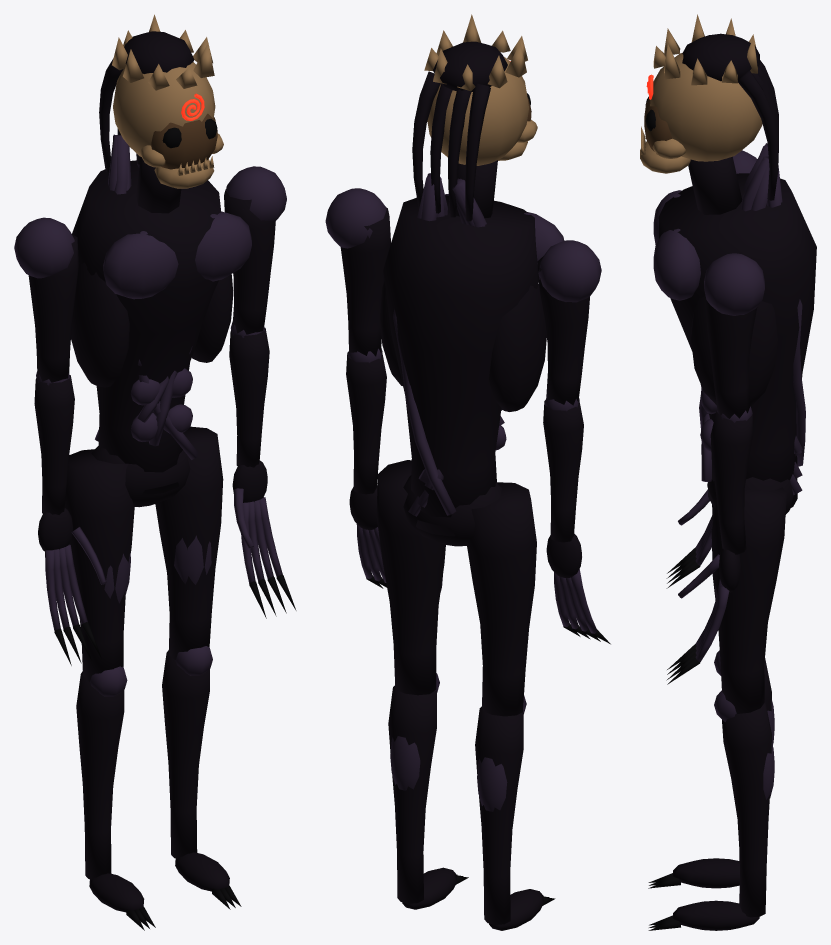
Rendered from carnical.glb.
The picture shows the model from 3 angles, left to right: view 1: azimuth 30°, elevation 25°; view 2: azimuth 150°, elevation 25°; view 3: azimuth 270°, elevation 25°; orthographic projection.
Parts seen in each view (by area): view 1: P_chest, P_neck, P_hipR, P_hipL, P_kneeR, P_kneeL, P_shR, P_shL, P_handR, P_handL, P_elL, P_elR (+1 smaller); view 2: P_chest, P_neck, P_hipR, P_hipL, P_kneeR, P_kneeL, P_shR, P_shL, P_elL, P_elR, P_handR, P_handL; view 3: P_chest, P_neck, P_hipL, P_kneeL, P_shL, P_elL, P_handL, P_kneeR, P_handR, P_jaw, P_shR.
Part boxes in pixels (box(x1,y1,x2,y2)): P_chest: box(71, 134, 251, 507); P_neck: box(99, 14, 223, 213); P_hipR: box(65, 449, 134, 681); P_hipL: box(155, 426, 223, 659); P_kneeR: box(76, 666, 155, 930); P_kneeL: box(162, 646, 241, 909); P_shR: box(14, 217, 78, 382); P_shL: box(224, 166, 286, 334); P_handR: box(38, 508, 106, 665); P_handL: box(232, 460, 296, 618); P_elL: box(229, 321, 269, 467); P_elR: box(34, 371, 74, 514); P_chest: box(380, 173, 564, 546); P_neck: box(412, 14, 537, 221); P_hipR: box(467, 482, 536, 716); P_hipL: box(376, 460, 445, 695); P_kneeR: box(475, 695, 555, 930); P_kneeL: box(388, 673, 468, 909); P_shR: box(537, 240, 601, 405); P_shL: box(325, 188, 390, 356); P_elL: box(346, 348, 386, 494); P_elR: box(543, 395, 583, 542); P_handR: box(546, 533, 610, 644); P_handL: box(349, 485, 386, 588); P_chest: box(653, 143, 816, 514); P_neck: box(644, 14, 778, 214); P_hipL: box(711, 487, 786, 713); P_kneeL: box(648, 690, 774, 930); P_shL: box(704, 253, 764, 418); P_elL: box(710, 406, 752, 554); P_handL: box(666, 547, 740, 684); P_kneeR: box(648, 650, 774, 888); P_handR: box(666, 489, 712, 588); P_jaw: box(640, 126, 690, 173); P_shR: box(733, 150, 757, 173).
Bounding box in the file's own units: 0.68 × 2.12 × 0.3877.
